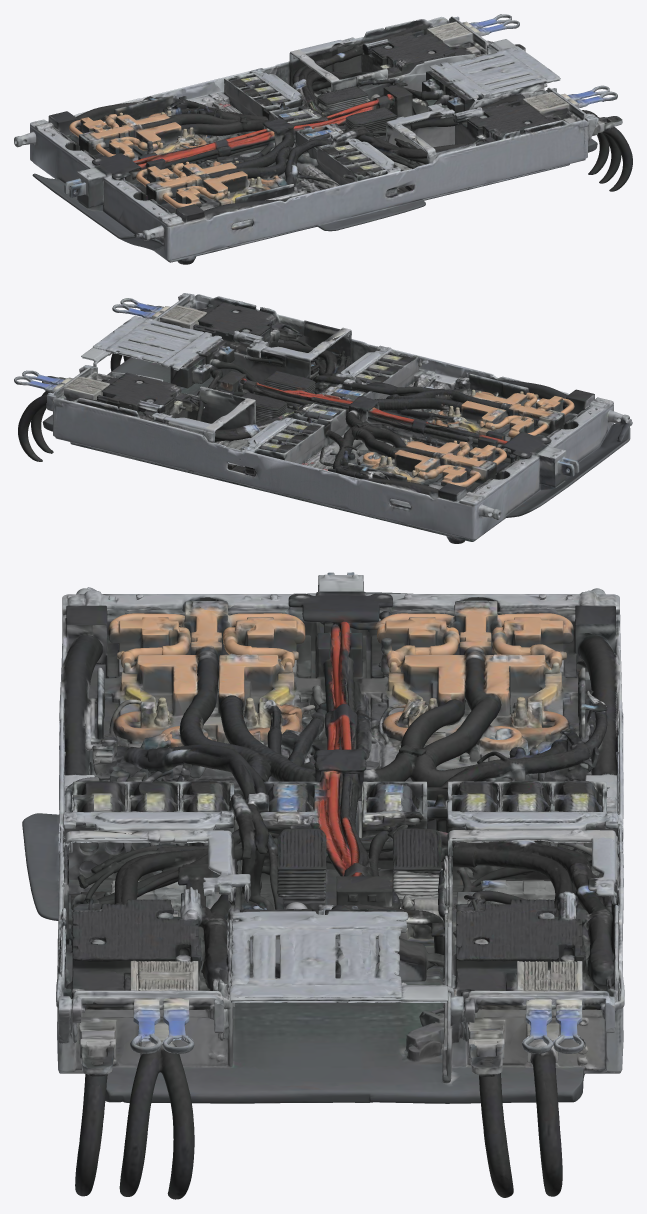
The model's file is nvl72-tray.glb.
3 views of the same model, one above another, from view 1: azimuth 30°, elevation 25°; view 2: azimuth 150°, elevation 25°; view 3: azimuth 270°, elevation 25° (orthographic). The views are drawn at different scales.
Visible parts, largest first — view 1: tripo_node_20f55e41-46f5-4389-8960-77d0aca08083; view 2: tripo_node_20f55e41-46f5-4389-8960-77d0aca08083; view 3: tripo_node_20f55e41-46f5-4389-8960-77d0aca08083.
Part boxes in pixels (<box>): tripo_node_20f55e41-46f5-4389-8960-77d0aca08083: <box>14,14,632,264</box>; tripo_node_20f55e41-46f5-4389-8960-77d0aca08083: <box>14,293,632,543</box>; tripo_node_20f55e41-46f5-4389-8960-77d0aca08083: <box>22,572,624,1199</box>.
Size of the model in its own units: 0.9802 by 0.1714 by 0.5057.
1 material, 1 textured.
